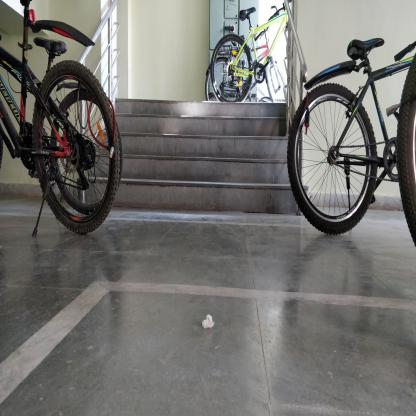stairs: (126, 100, 284, 221)
